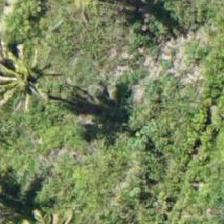coconut_tree: (0, 37, 67, 127)
